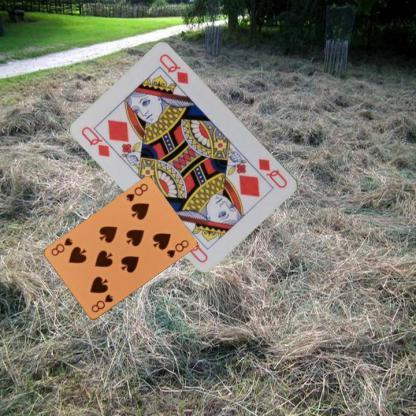8s: (88, 292, 114, 314), (123, 181, 149, 203)
Qd: (78, 124, 119, 158), (256, 156, 289, 190)
